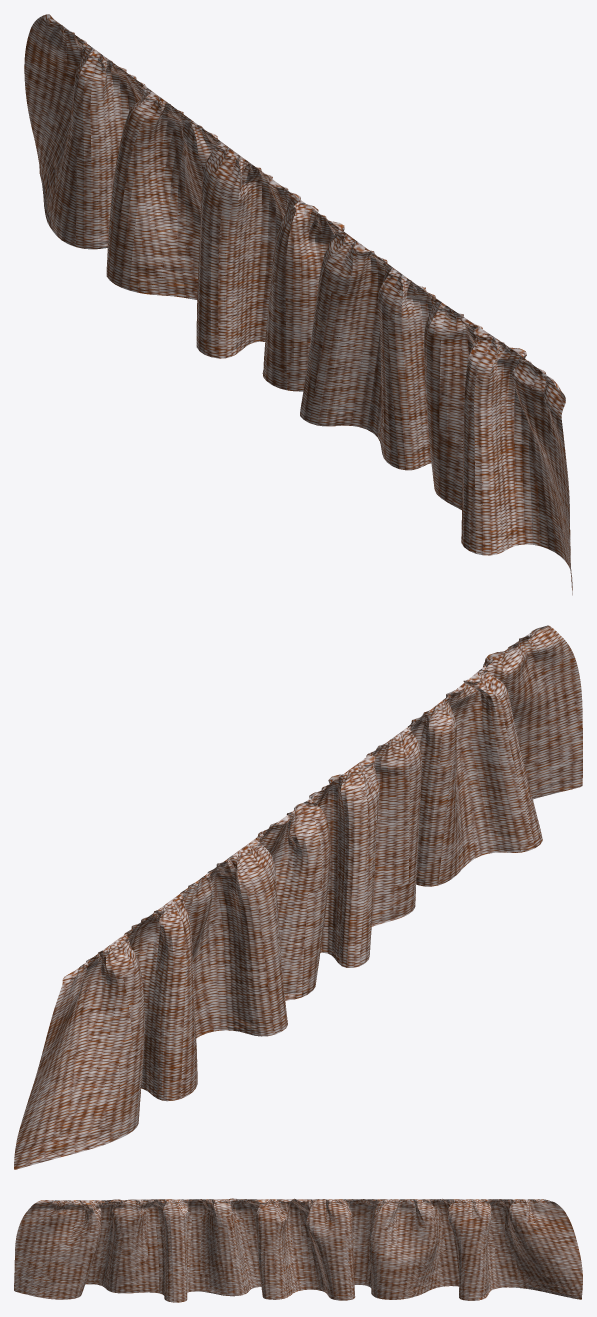
File: Divano_sotto.fbx
The picture shows the model from 3 angles, top to bottom: view 1: azimuth 30°, elevation 25°; view 2: azimuth 150°, elevation 25°; view 3: azimuth 270°, elevation 25°; orthographic projection. The views are drawn at different scales.
Parts seen in each view (by area): view 1: Plane.002; view 2: Plane.002; view 3: Plane.002.
Part boxes in pixels (x1,y1,x2,y2): Plane.002: [24, 14, 572, 595]; Plane.002: [14, 625, 582, 1169]; Plane.002: [14, 1198, 582, 1302].
Bounding box in the file's own units: 15.46 × 37.5 × 204.
